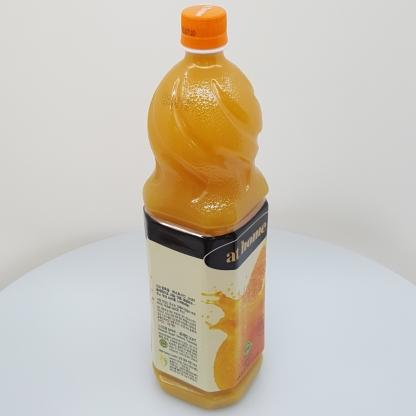-------1-5L: (142, 5, 269, 409)
